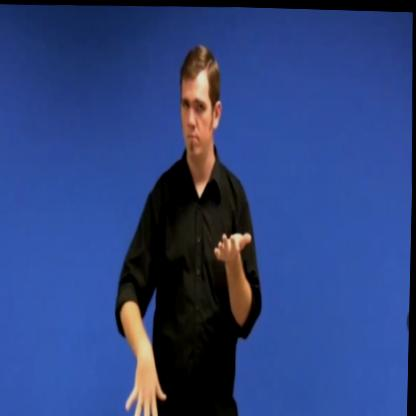Expensive: (118, 202, 268, 416)
